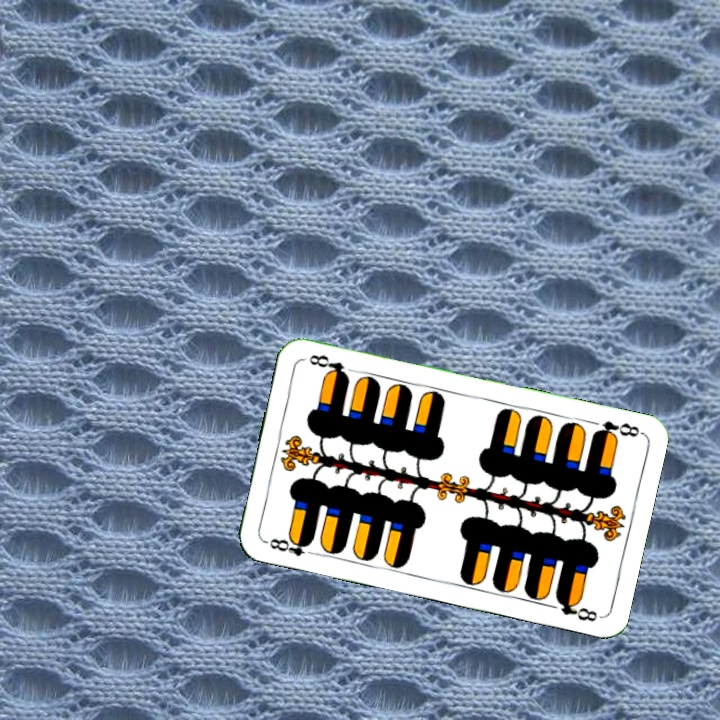E8: (261, 532, 319, 559), (588, 416, 643, 443)
